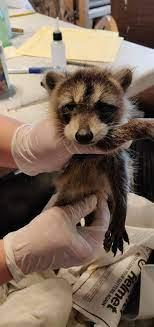raccoon: (29, 51, 154, 276)
